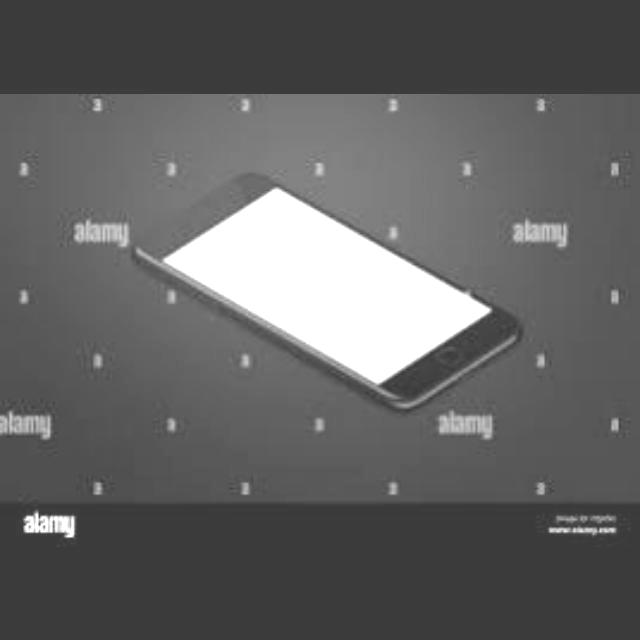fake: (104, 144, 546, 448)
